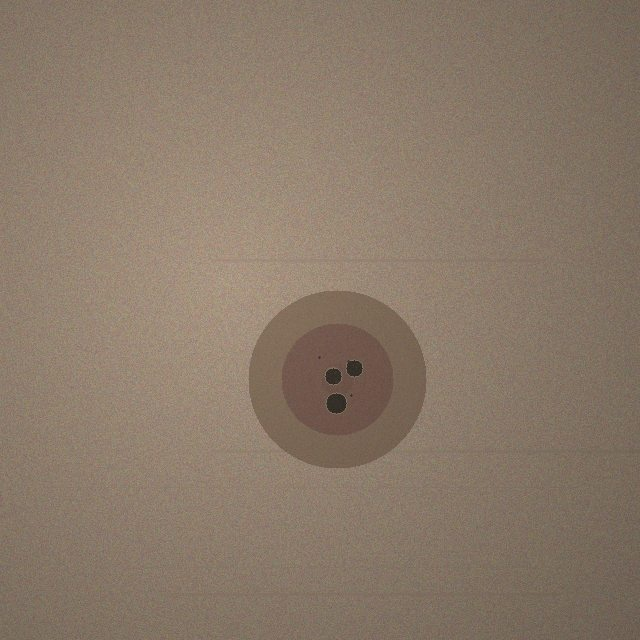shrinkage: (248, 290, 426, 468)
